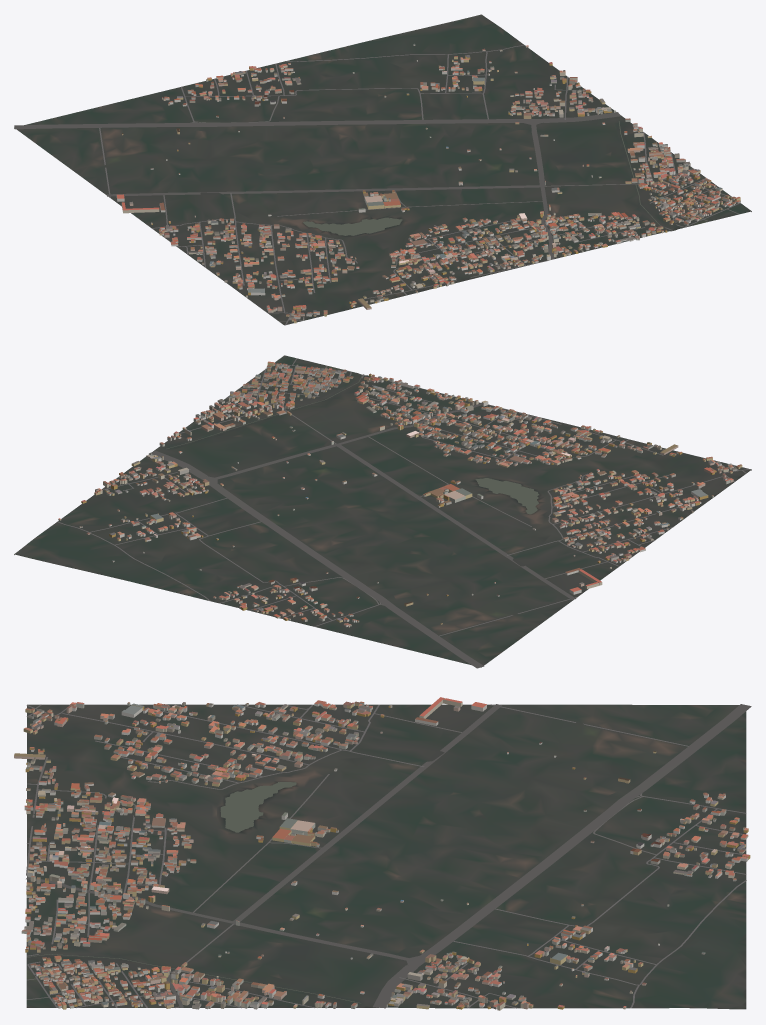
3 views of the same model, one above another, from view 1: azimuth 30°, elevation 25°; view 2: azimuth 150°, elevation 25°; view 3: azimuth 270°, elevation 25° (orthographic). The views are drawn at different scales.
Parts seen in each view (by area): view 1: ground, buildings, roads, water; view 2: ground, buildings, roads, water; view 3: ground, buildings, roads, water.
Boxes of the visible parts, box(x1,y1,x2,y2) form: ground: box(14, 14, 751, 325); buildings: box(116, 43, 740, 323); roads: box(14, 45, 740, 324); water: box(303, 121, 674, 235); ground: box(14, 355, 751, 667); buildings: box(58, 361, 742, 627); roads: box(57, 358, 750, 668); water: box(166, 374, 539, 514); ground: box(26, 704, 746, 1009); buildings: box(14, 697, 750, 1010); roads: box(26, 704, 751, 1008); water: box(27, 782, 360, 1003).
Size of the model in its own units: 1427 by 19.04 by 1438.
